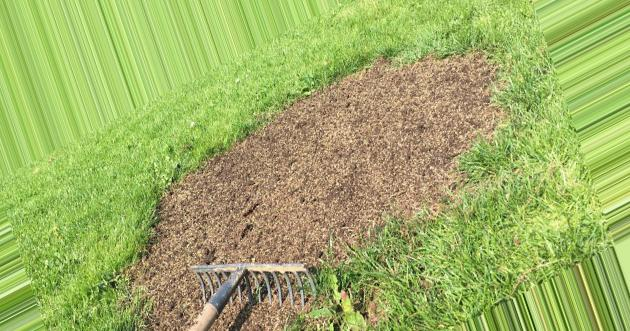patch: (237, 142, 344, 236), (341, 115, 425, 191), (159, 195, 234, 260), (418, 85, 485, 137), (155, 271, 188, 299)
